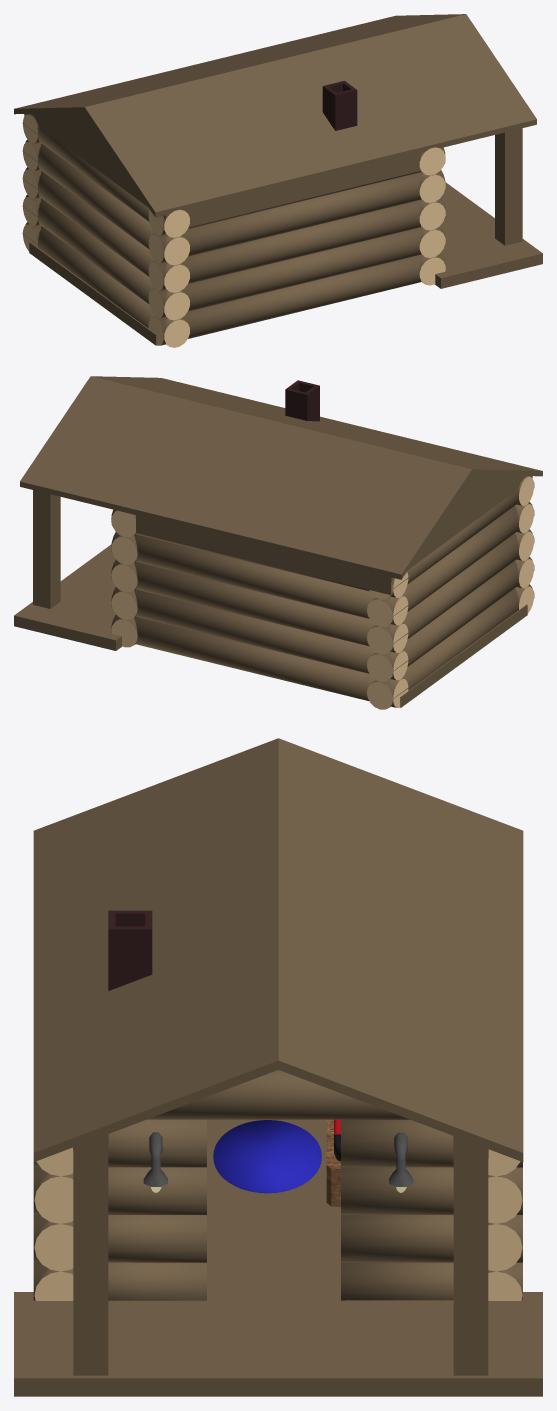
File: Log Cabin.fbx
The picture shows the model from 3 angles, top to bottom: view 1: azimuth 30°, elevation 25°; view 2: azimuth 150°, elevation 25°; view 3: azimuth 270°, elevation 25°; orthographic projection. The views are drawn at different scales.
Visible parts, largest first — view 1: Chimney, Front Wall; view 2: Chimney, Front Wall; view 3: Chimney, Front Wall, Carpet, Light.L, Bedframe.
Part boxes in pixels (x1,y1,x2,y2): Chimney: [14, 14, 542, 345]; Front Wall: [22, 114, 445, 347]; Chimney: [14, 376, 542, 707]; Front Wall: [111, 476, 534, 709]; Chimney: [14, 738, 542, 1396]; Front Wall: [33, 1070, 522, 1300]; Carpet: [213, 1120, 321, 1193]; Light.L: [143, 1132, 413, 1192]; Bedframe: [326, 1119, 340, 1206].
Size of the model in its own units: 747 by 363 by 518.
Materials: 14 (9 with a texture image).
